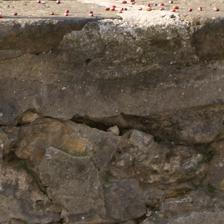Crack: (41, 18, 222, 220), (74, 30, 127, 100), (107, 0, 137, 123), (9, 5, 61, 43)
